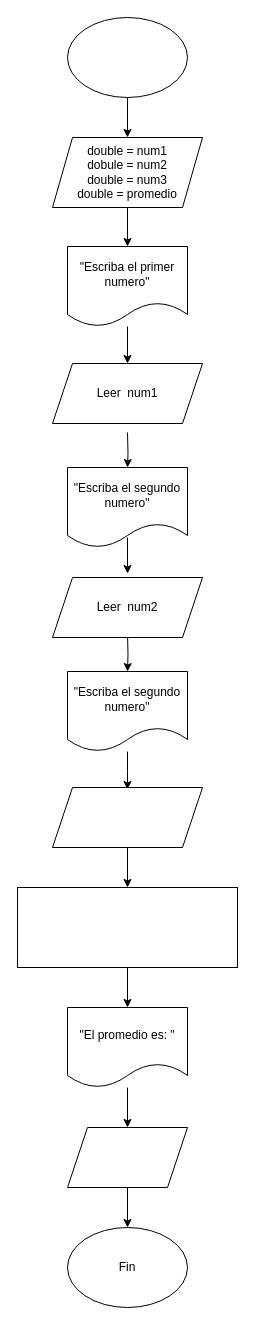
Image size: 255x1325. Some labels were removed from this diagram. The box of each missing label's shape, as (x1, y1, x2, y2) in pixels:
Escribir promedio: (66, 1126, 188, 1188)
Inicio: (66, 16, 188, 98)
Leer num3: (52, 786, 202, 848)
promedio = (num1 + num2 + num3) / 3: (16, 886, 238, 968)
